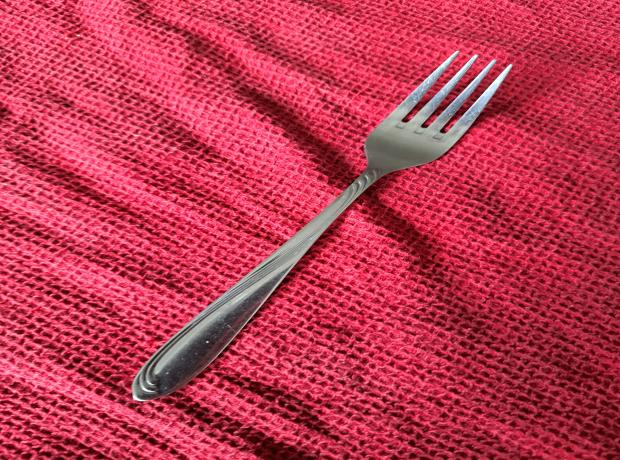metal: (118, 41, 518, 405)
